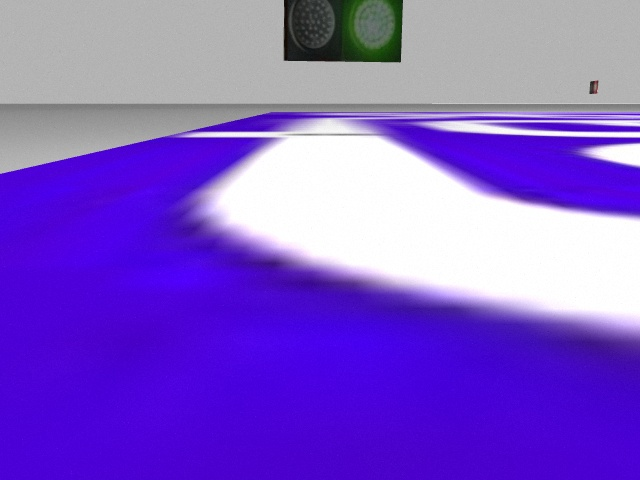green: (341, 1, 402, 62)
